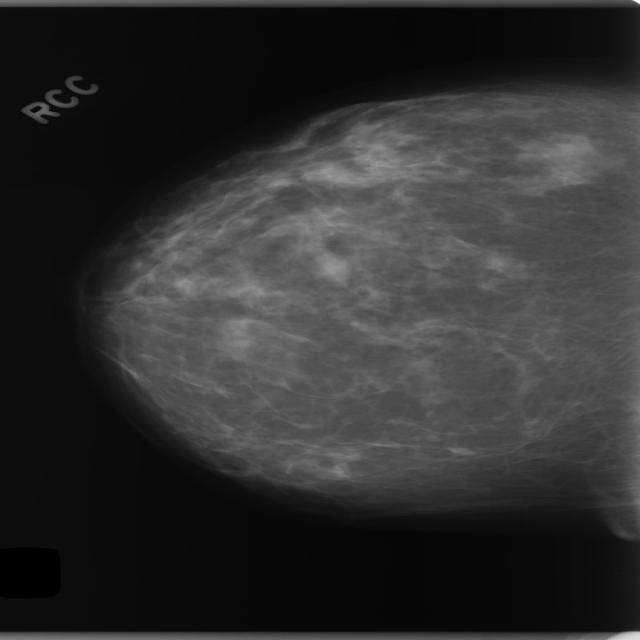tumour: (216, 315, 256, 358)
